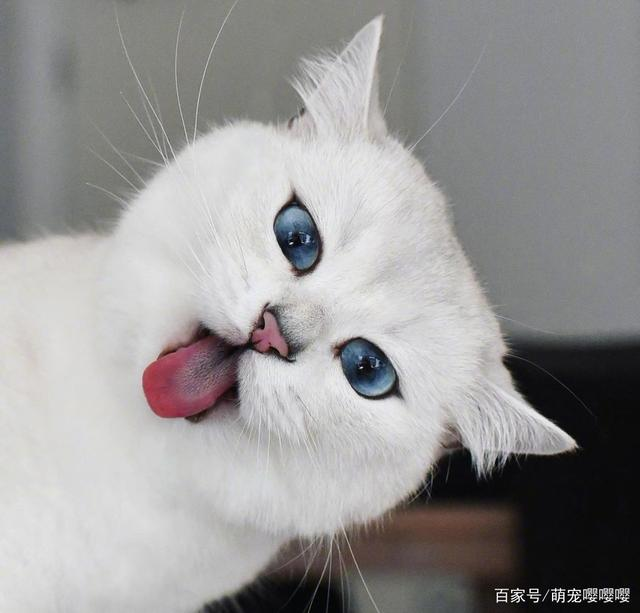cat: (1, 13, 577, 613)
